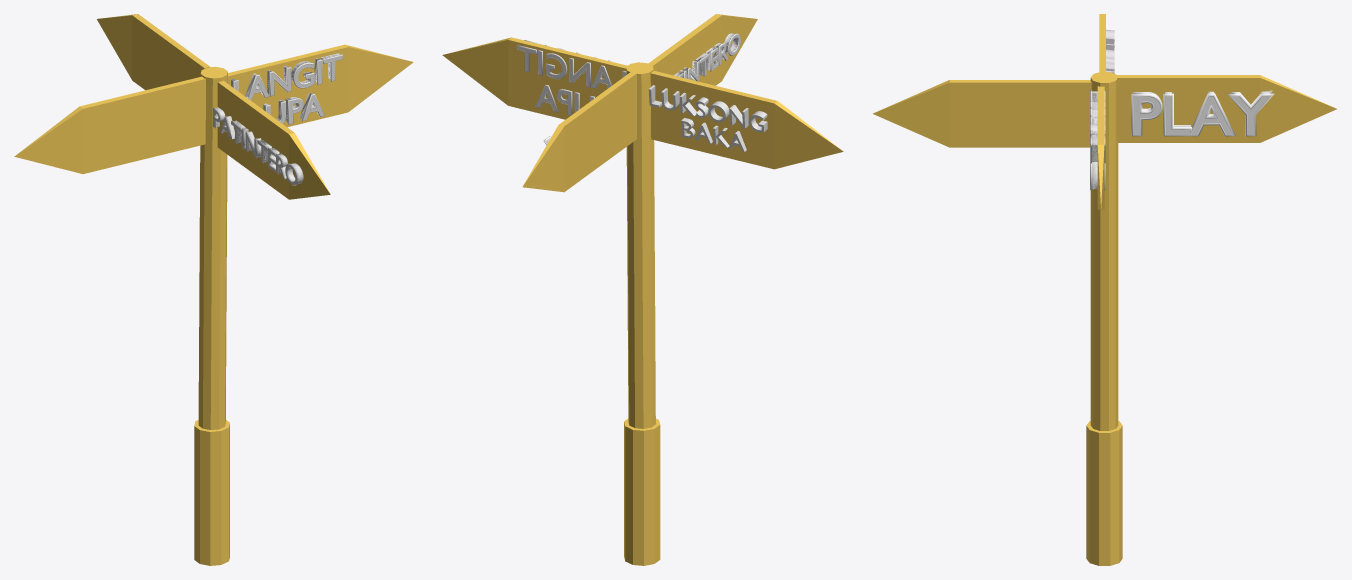
File: directional.fbx
The picture shows the model from 3 angles, left to right: view 1: azimuth 30°, elevation 25°; view 2: azimuth 150°, elevation 25°; view 3: azimuth 270°, elevation 25°; orthographic projection.
Parts seen in each view (by area): view 1: luksongbaka; view 2: luksongbaka; view 3: luksongbaka.
Part boxes in pixels (<box>): luksongbaka: <box>14,14,413,565</box>; luksongbaka: <box>442,14,843,565</box>; luksongbaka: <box>873,14,1336,565</box>.
Bounding box in the file's own units: 2511 × 2921 × 2550.
